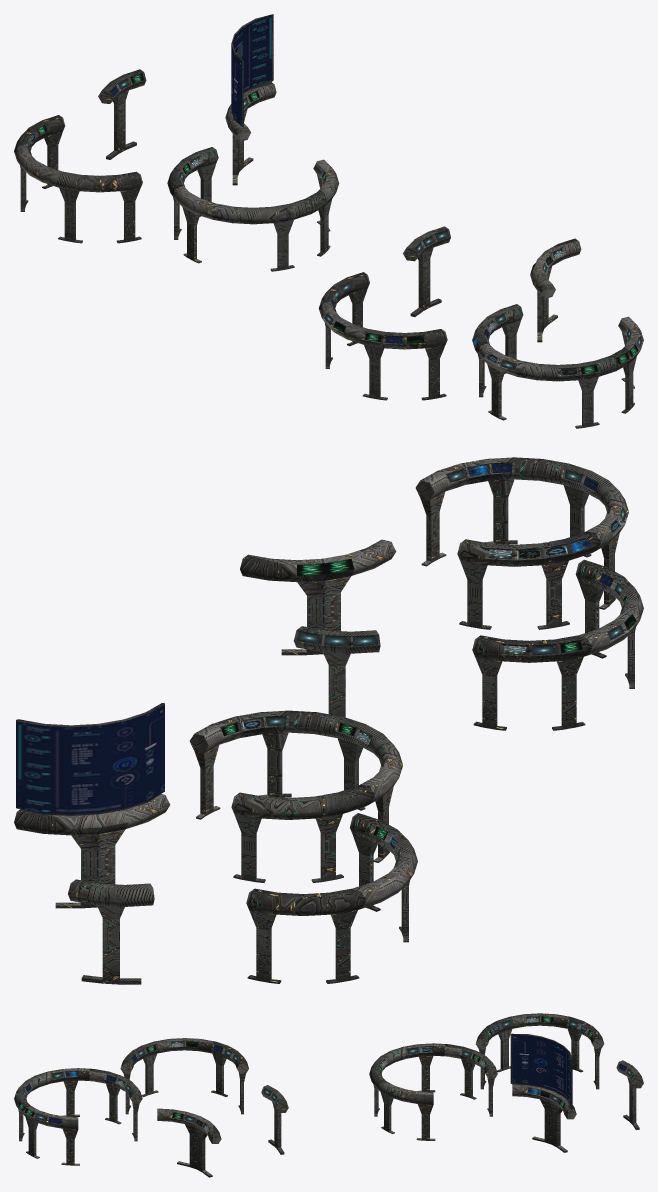
File: ring_consoles.glb
3 renders of one model, top to bottom at view 1: azimuth 30°, elevation 25°; view 2: azimuth 150°, elevation 25°; view 3: azimuth 270°, elevation 25°, orthographic. The views are drawn at different scales.
Visible parts, largest first — view 1: MaterialFBXASC032FBXASC0352142150880 (×8), MaterialFBXASC032FBXASC0352142171025; view 2: MaterialFBXASC032FBXASC0352142150880 (×8), MaterialFBXASC032FBXASC0352142171025, MaterialFBXASC032FBXASC0352142171859; view 3: MaterialFBXASC032FBXASC0352142150880 (×9), MaterialFBXASC032FBXASC0352142171025.
Boxes of the visible parts, bbox=[...] form: MaterialFBXASC032FBXASC0352142150880 (×8): bbox=[14, 69, 643, 428]; MaterialFBXASC032FBXASC0352142171025: bbox=[231, 15, 271, 126]; MaterialFBXASC032FBXASC0352142150880 (×8): bbox=[14, 457, 643, 984]; MaterialFBXASC032FBXASC0352142171025: bbox=[16, 704, 164, 814]; MaterialFBXASC032FBXASC0352142171859: bbox=[296, 631, 377, 646]; MaterialFBXASC032FBXASC0352142150880 (×9): bbox=[14, 1013, 643, 1177]; MaterialFBXASC032FBXASC0352142171025: bbox=[512, 1034, 572, 1108].
Size of the model in its own units: 57.92 by 23.25 by 126.
Materials: 12 (12 with a texture image).
